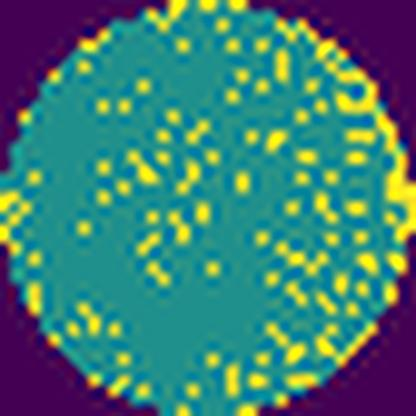Edge-Loc: (368, 113, 415, 249)
